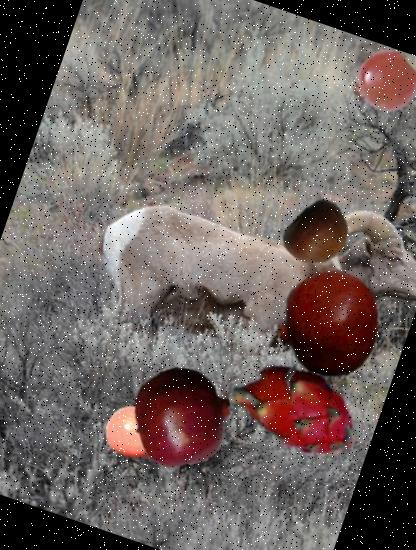Clementine: (98, 395, 174, 471)
Nut: (276, 192, 362, 278)
Pitahaya: (211, 326, 382, 496)
Pomegranate: (260, 256, 400, 394), (120, 354, 245, 479)
Redcurrant: (343, 43, 416, 124)
